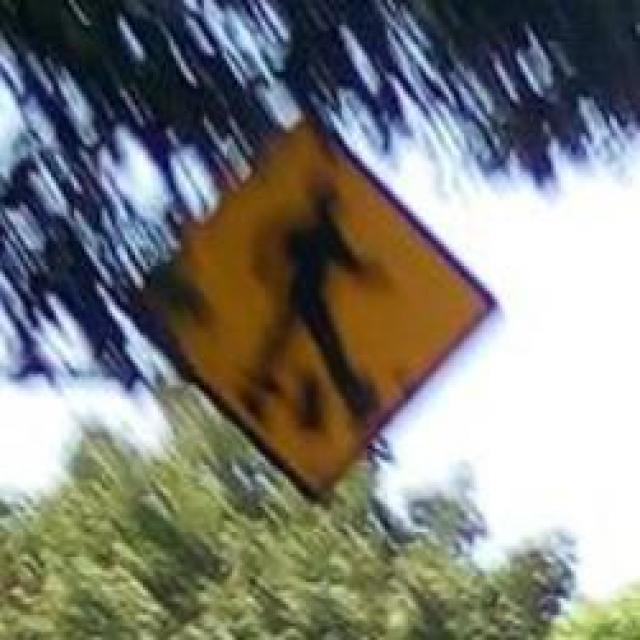traffic sign: (158, 125, 482, 485)
